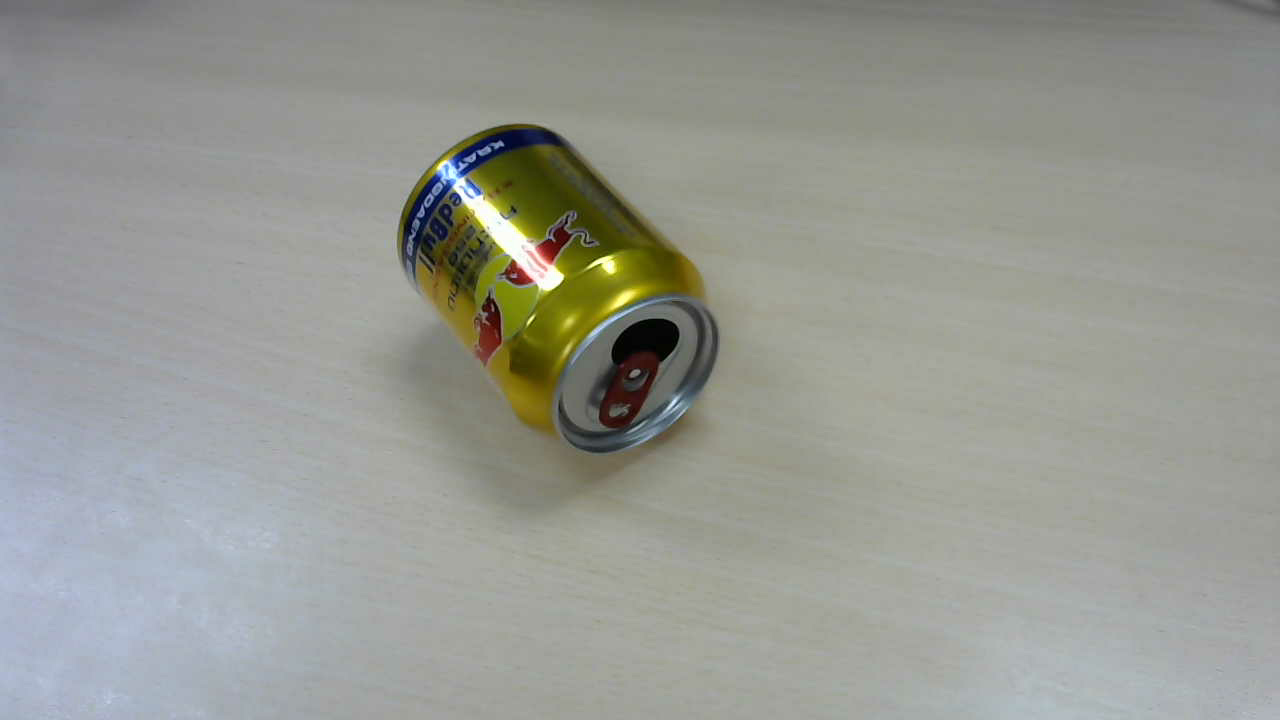Red_Bull: (396, 125, 732, 456)
